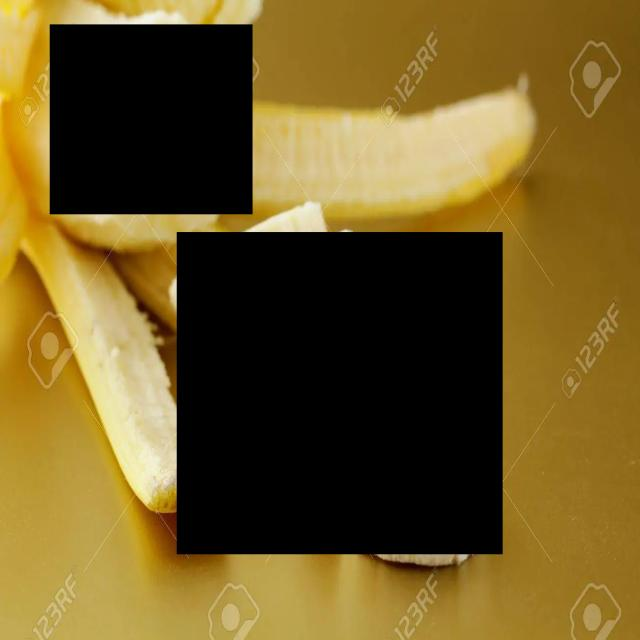Banana: (177, 233, 502, 555), (50, 24, 253, 214)
